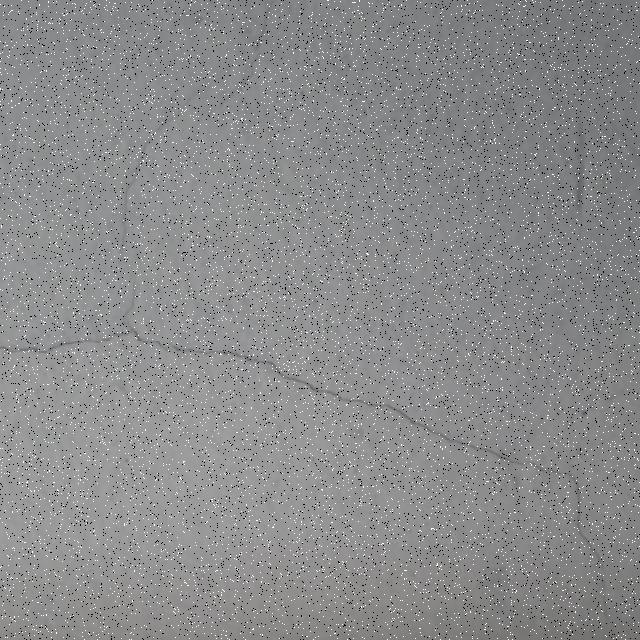moderate crack: (100, 16, 252, 313), (320, 385, 504, 456), (153, 274, 280, 327), (118, 128, 164, 225), (9, 332, 132, 354), (566, 468, 599, 548), (574, 158, 586, 208)
severe crack: (7, 294, 624, 514), (131, 331, 308, 387)
